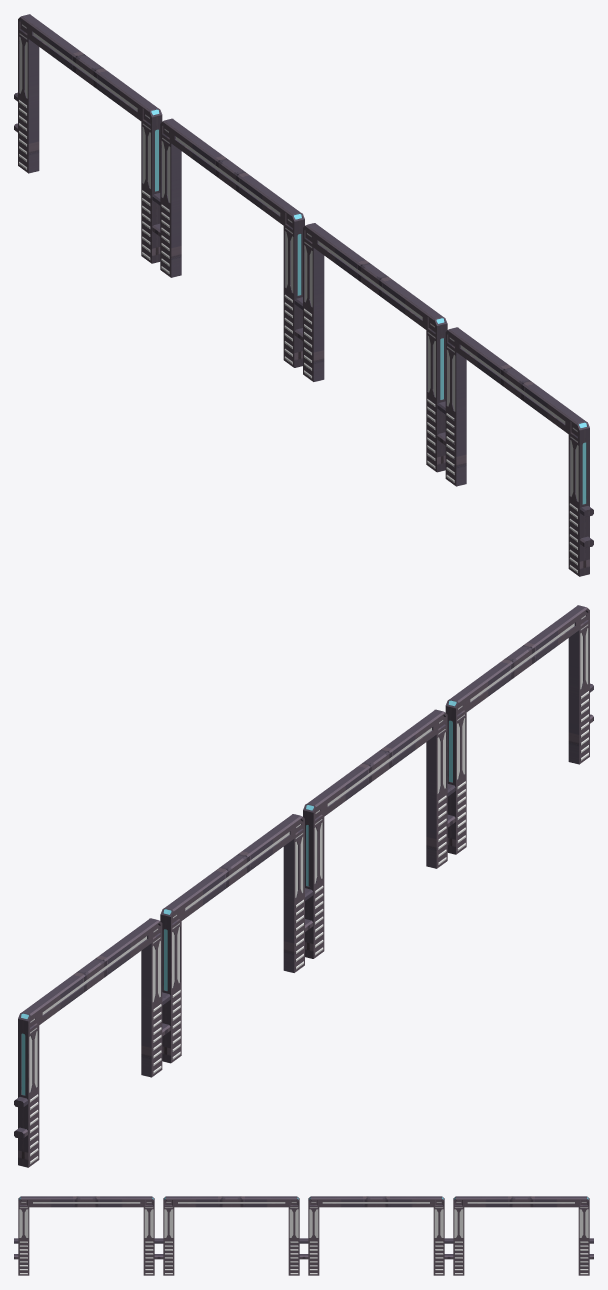
File: Fence.fbx
3 views of the same model, one above another, from view 1: azimuth 30°, elevation 25°; view 2: azimuth 150°, elevation 25°; view 3: azimuth 270°, elevation 25° (orthographic). The views are drawn at different scales.
Parts seen in each view (by area): view 1: Railing.002; view 2: Railing.002; view 3: Railing.002.
Part boxes in pixels (x1,y1,x2,y2): Railing.002: [14, 14, 593, 576]; Railing.002: [14, 605, 593, 1167]; Railing.002: [14, 1196, 593, 1275].
Bounding box in the file's own units: 12.62 × 149 × 1021.
